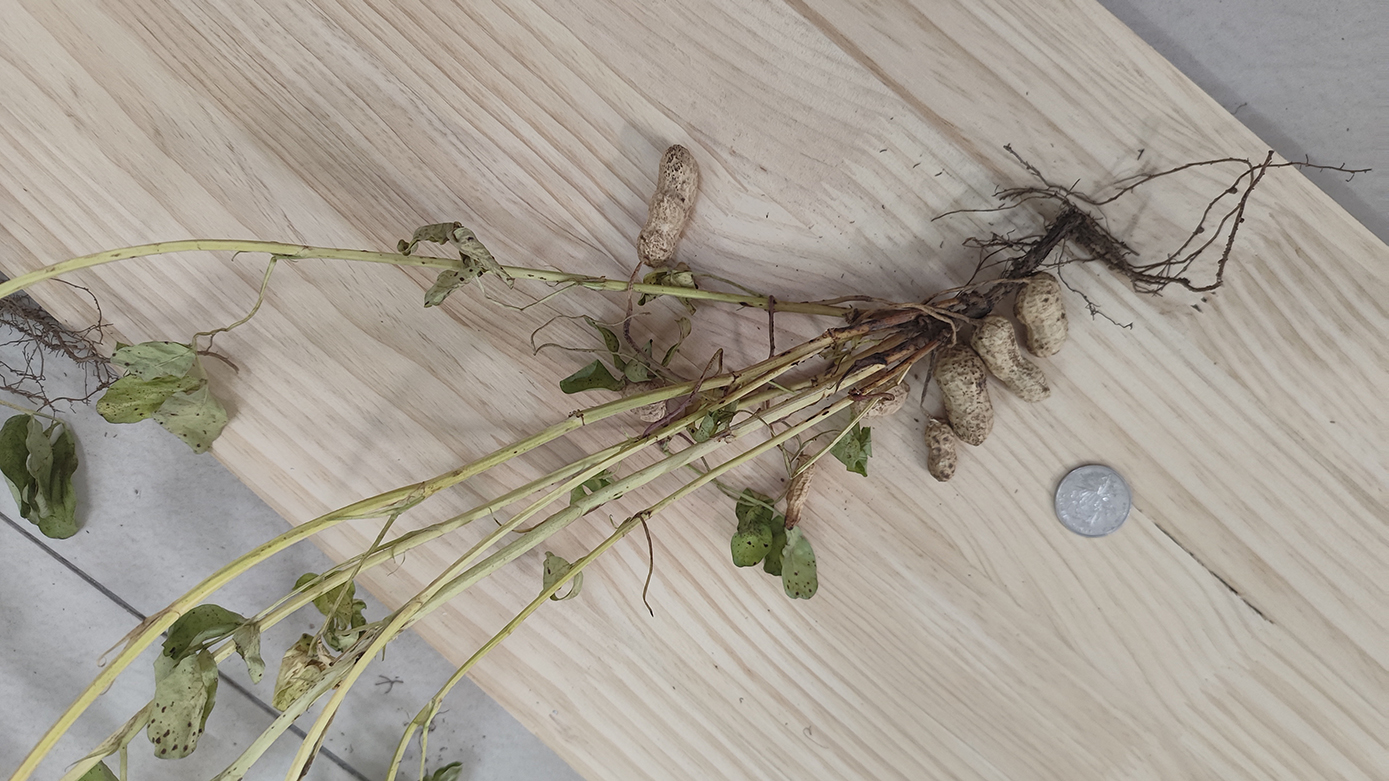h: (641, 144, 703, 265), (971, 317, 1051, 403), (935, 347, 998, 447), (1018, 269, 1066, 357), (923, 421, 958, 480)
